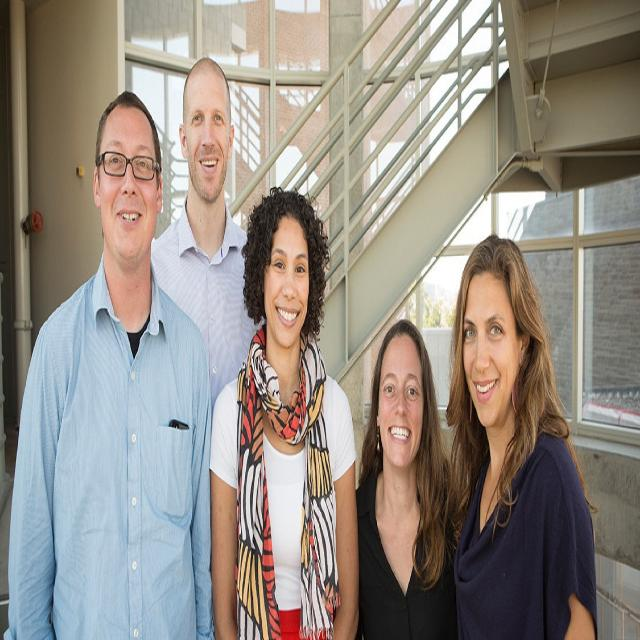body: (3, 84, 219, 639), (207, 182, 361, 639), (438, 230, 601, 639), (148, 54, 267, 418), (355, 318, 459, 640)
